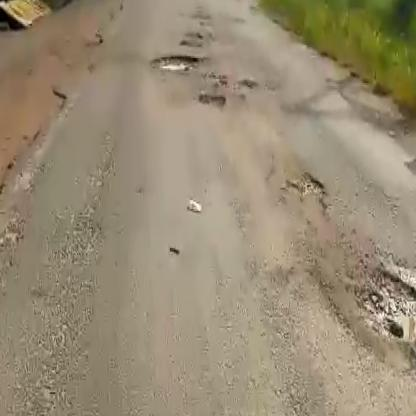pothole: (354, 262, 416, 350), (276, 166, 329, 205), (149, 50, 200, 71), (197, 89, 233, 110)
